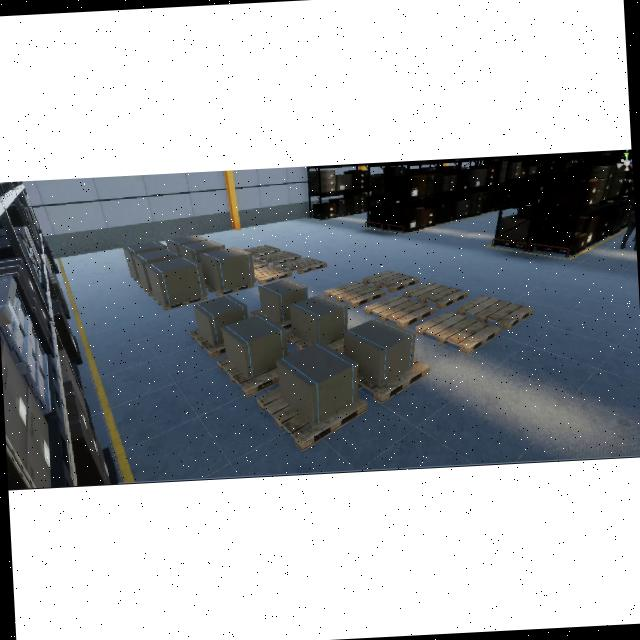wooden_pallet: (256, 387, 367, 450), (414, 311, 504, 357), (357, 360, 431, 405), (454, 294, 535, 331), (216, 355, 279, 398), (363, 294, 436, 328), (402, 280, 471, 310), (324, 280, 387, 308), (362, 269, 420, 294), (189, 326, 225, 359), (153, 294, 207, 311), (292, 253, 339, 271), (206, 281, 254, 298), (254, 265, 293, 285), (270, 247, 313, 262), (242, 244, 281, 257), (252, 256, 268, 270)
